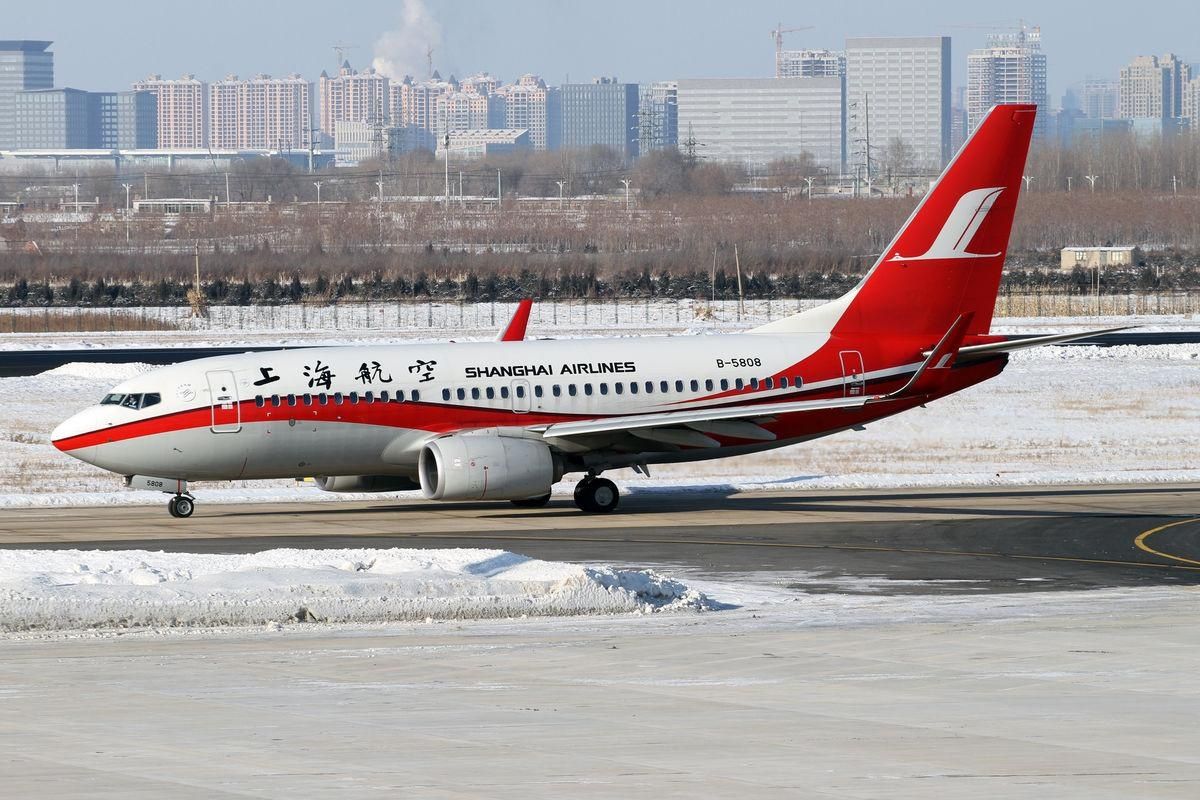airplane: (49, 100, 1090, 522)
